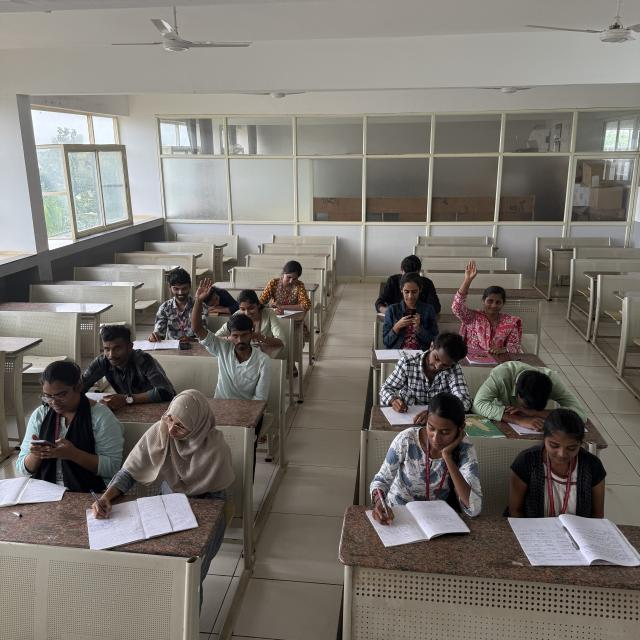Hand Rising: (188, 265, 266, 397), (453, 260, 521, 346)
Reading: (511, 407, 628, 546)
Sleeping: (476, 360, 591, 423)
Using Phone: (14, 360, 107, 476), (379, 275, 438, 348)
Writing: (82, 389, 234, 534), (367, 394, 477, 541), (376, 329, 471, 422), (141, 269, 204, 352), (261, 258, 313, 317)
